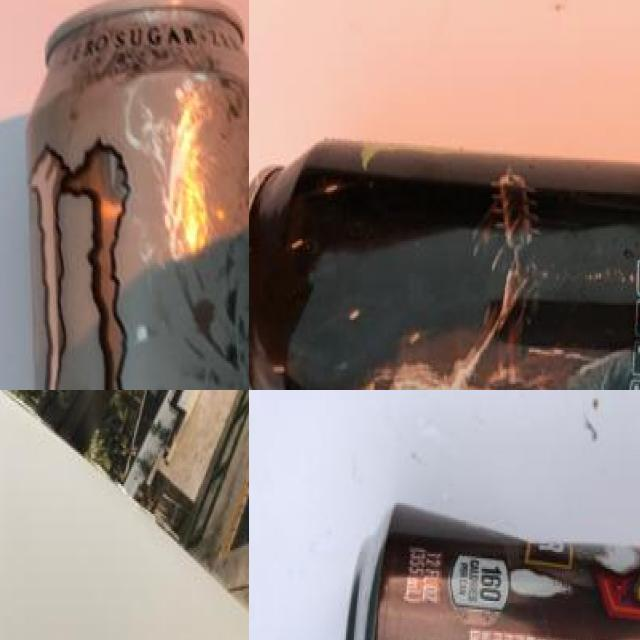paper: (0, 390, 249, 640)
plastic: (249, 127, 640, 390), (24, 0, 249, 390), (343, 507, 640, 640)
